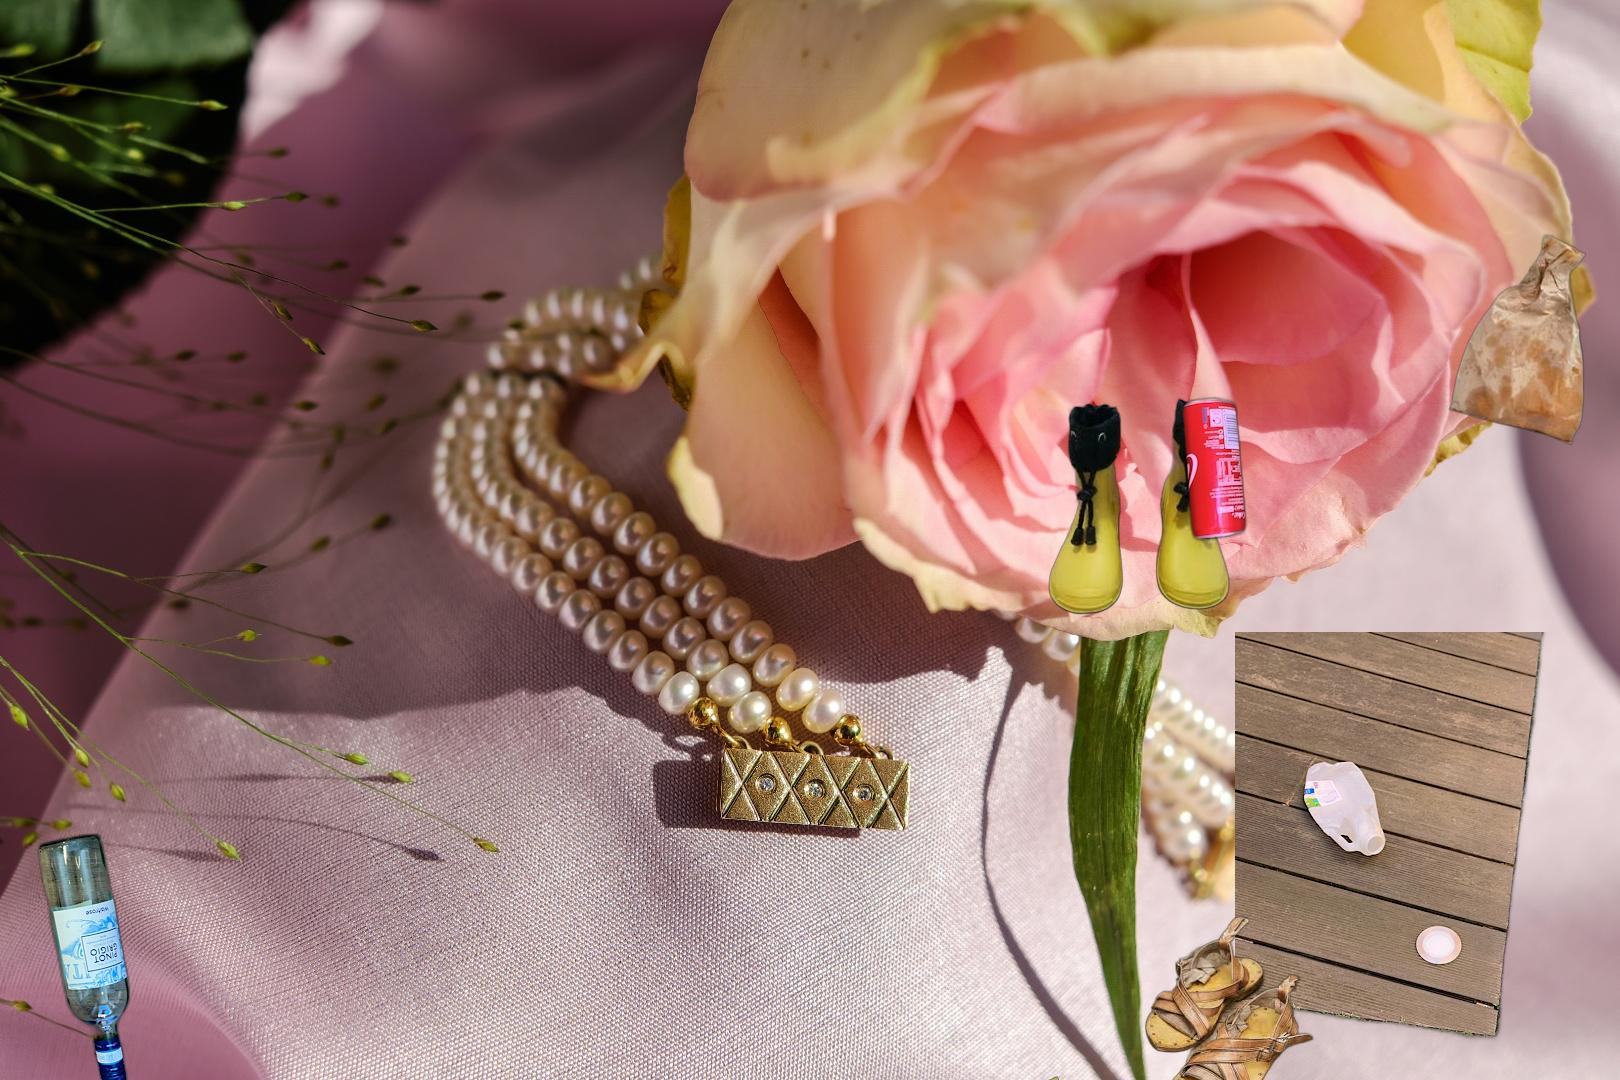glass: (33, 828, 135, 1080)
metal-cans: (1178, 391, 1250, 546)
paper-bag: (1446, 231, 1587, 448)
plastic-bag: (859, 1074, 1096, 1080)
plastic-bottles: (1235, 632, 1552, 1080)
shoes: (1046, 397, 1232, 617), (1141, 912, 1316, 1080)
